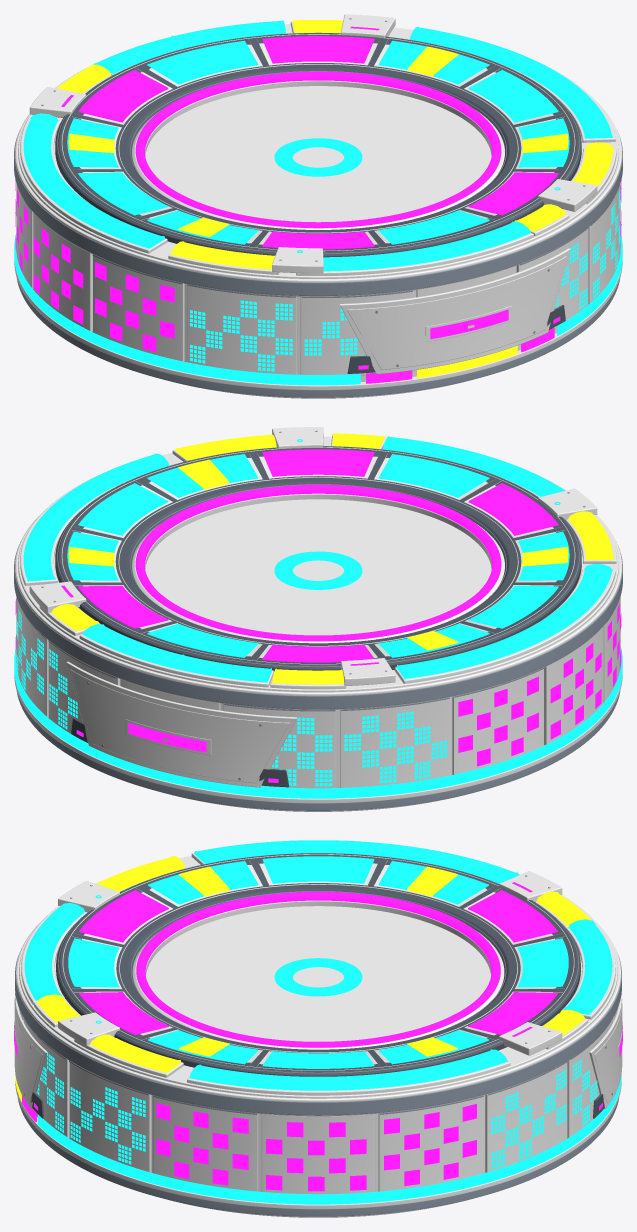
File: Compact.fbx
3 renders of one model, top to bottom at view 1: azimuth 30°, elevation 25°; view 2: azimuth 150°, elevation 25°; view 3: azimuth 270°, elevation 25°, orthographic.
Parts seen in each view (by area): view 1: SM_Puck_Compact_RetroArcade; view 2: SM_Puck_Compact_RetroArcade; view 3: SM_Puck_Compact_RetroArcade.
Boxes of the visible parts, <box> form: SM_Puck_Compact_RetroArcade: <box>14,14,622,398</box>; SM_Puck_Compact_RetroArcade: <box>14,427,622,811</box>; SM_Puck_Compact_RetroArcade: <box>14,840,622,1217</box>.
Bounding box in the file's own units: 72 × 72.22 × 18.
